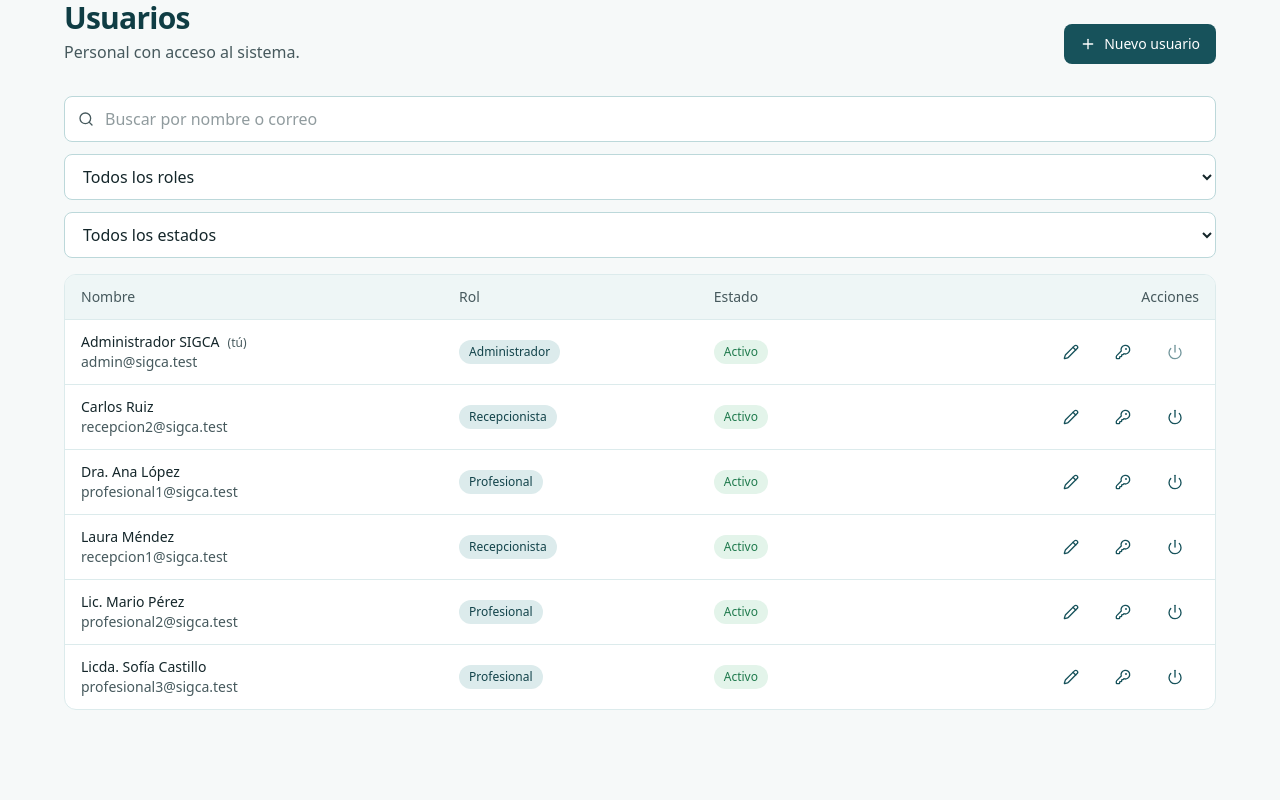
Test case: Usuarios › desactivar: pide confirmación y no hace nada si se cancela
Click the button named "Desactivar a Laura Méndez".
click(1175, 547)  # box [1151,529,1199,565]
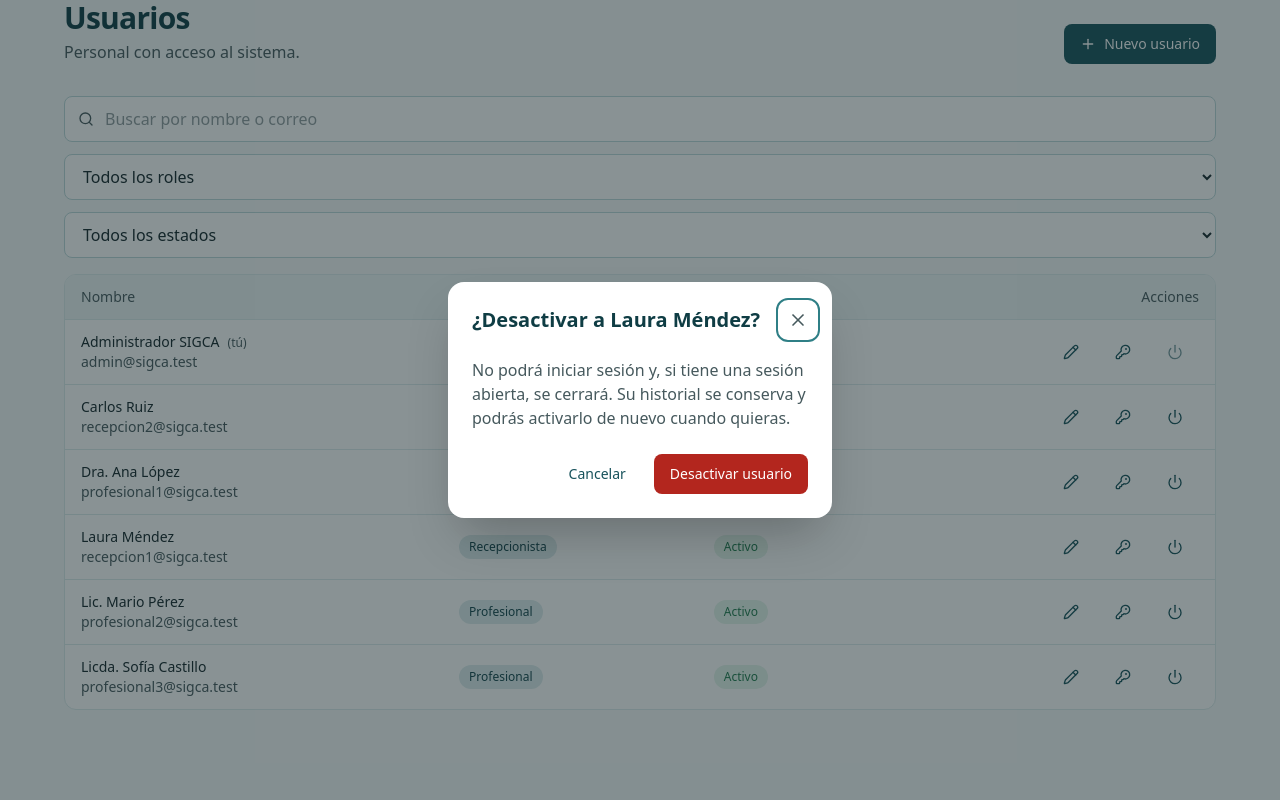
Click the button "Cancelar".
click(597, 474)  # box [553,454,642,494]
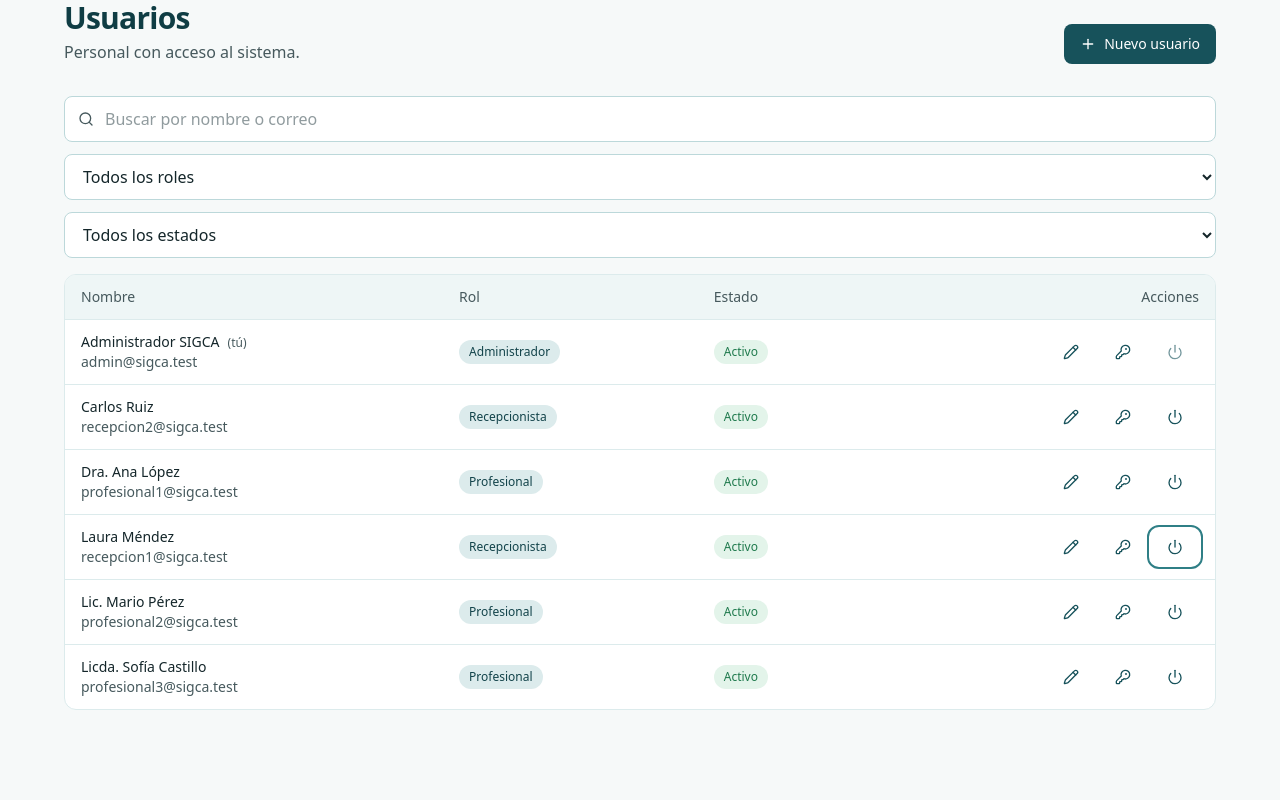
Check: the dialog is gone
